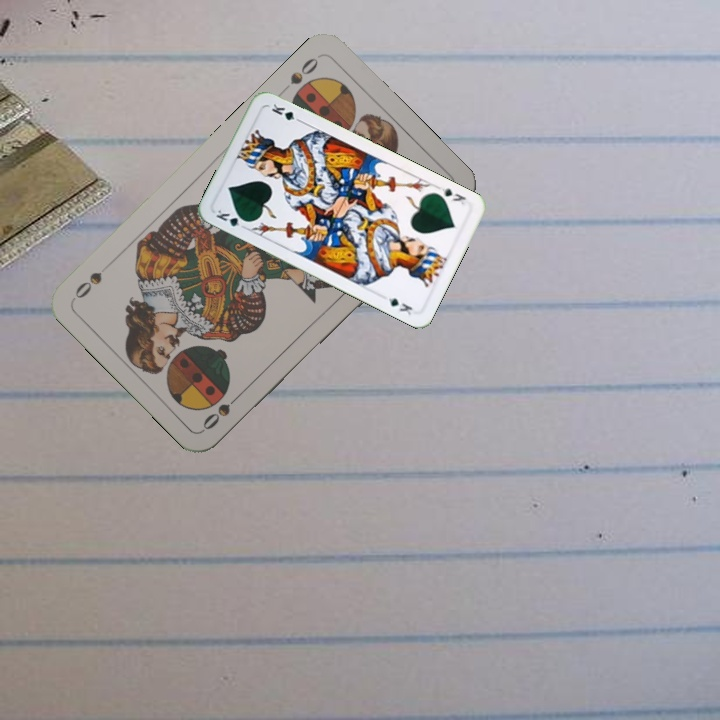GK: (212, 205, 251, 230), (438, 184, 469, 208)
SO: (198, 387, 246, 433), (286, 53, 322, 87)
